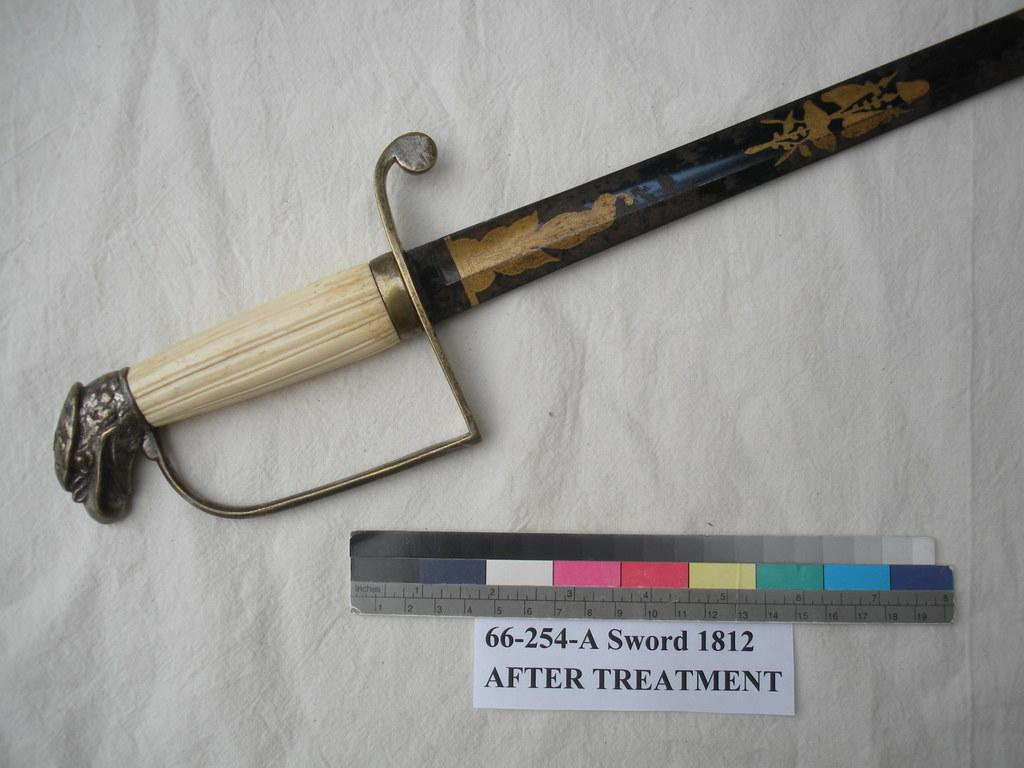Sword: (54, 2, 1023, 518)
